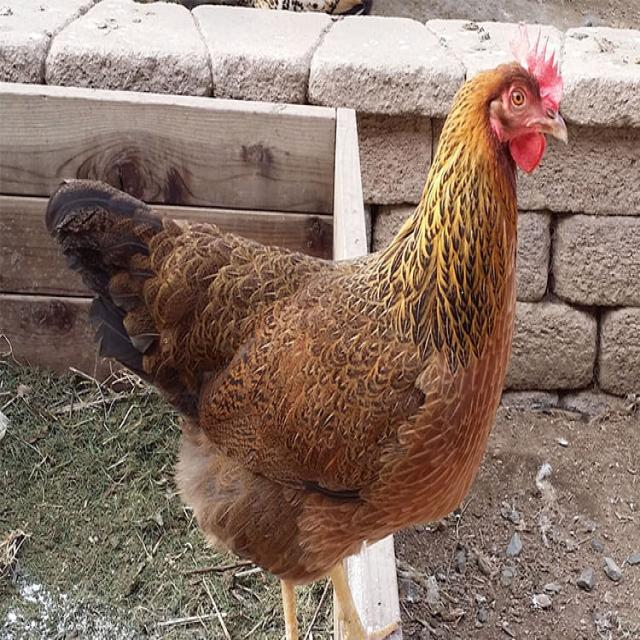Chicken: (71, 14, 606, 626)
